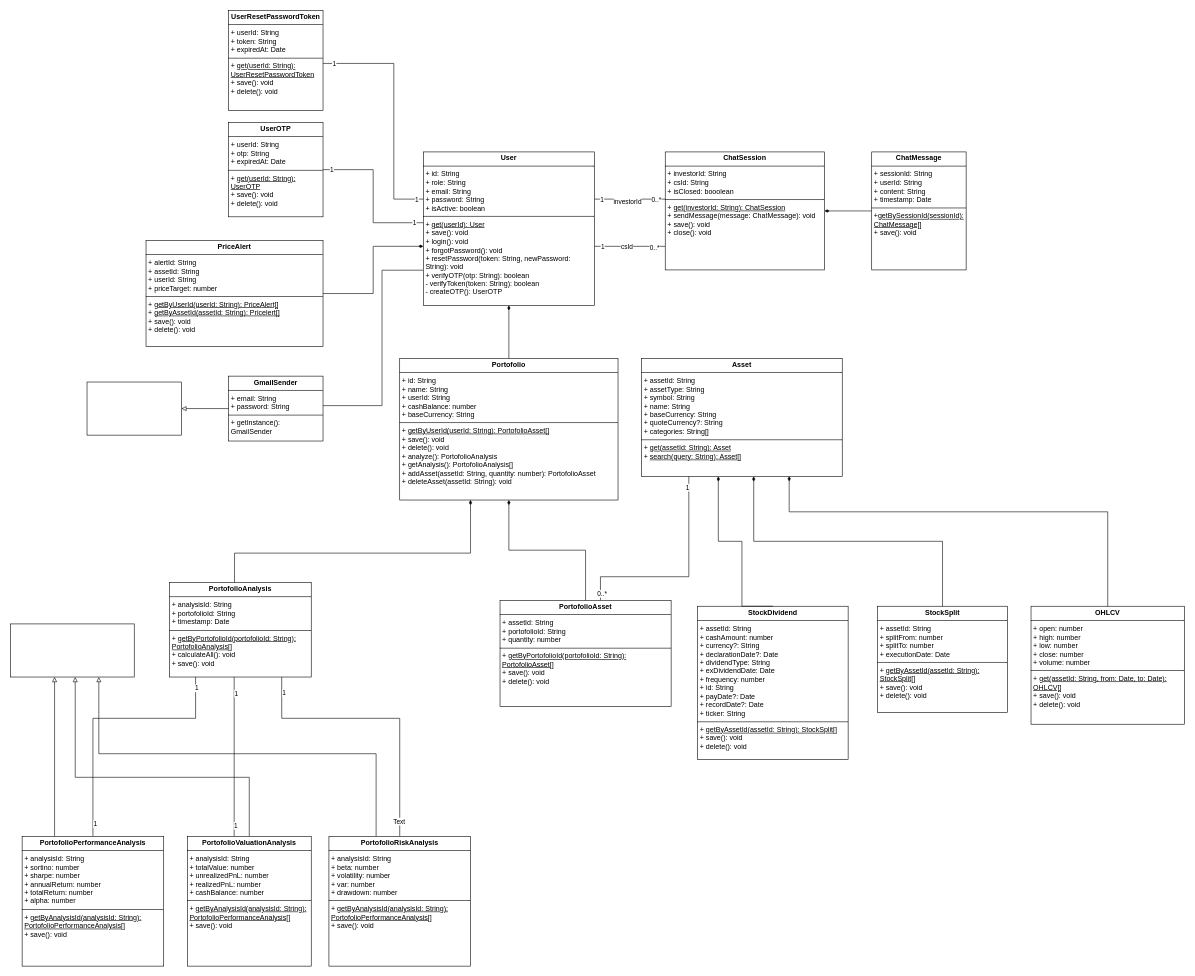
Image size: 1195x976. Some labels were removed from this diagram. Each missing label, with the centre of its shape:
EmailSender <<interface>> + send(email: String, content: String): void: [133,408]
IPortofolioAnalysis <<interface>> + calculate(portofolio: Portofolio): void: [72,650]
